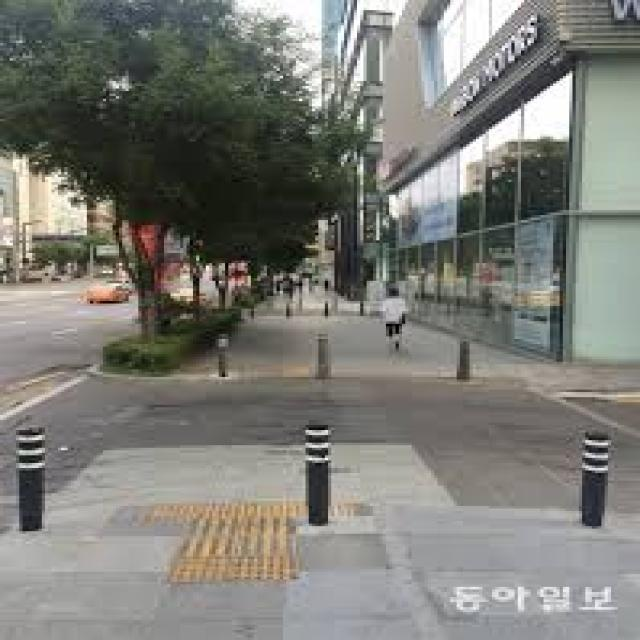bollard: (283, 417, 354, 536), (0, 417, 72, 532), (564, 425, 620, 531), (202, 324, 240, 384), (450, 326, 479, 387), (316, 324, 343, 386)
